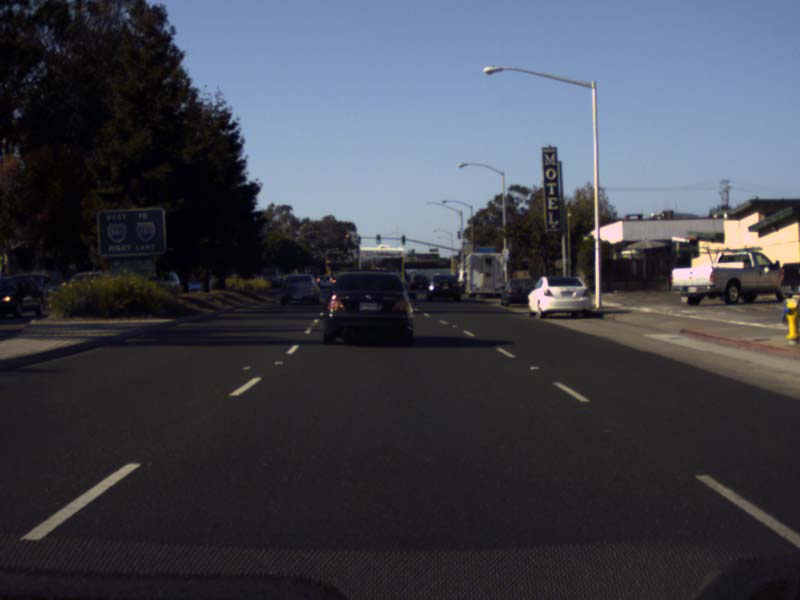Green: (375, 234, 380, 244), (400, 235, 405, 245)
Red: (345, 233, 350, 244), (343, 253, 346, 257)
